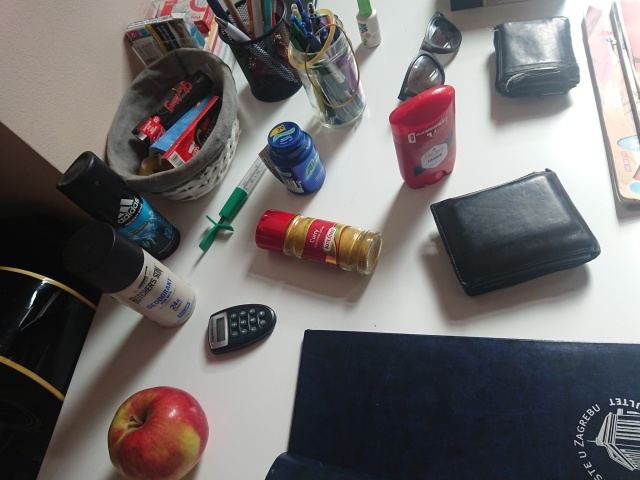Kotanyi Curry Spices Mix 70g: (252, 207, 384, 277)
